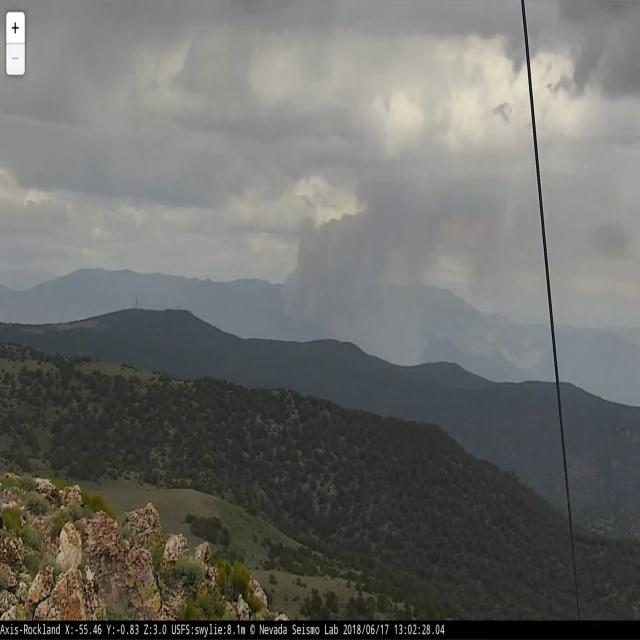smoke: (278, 179, 446, 337)
